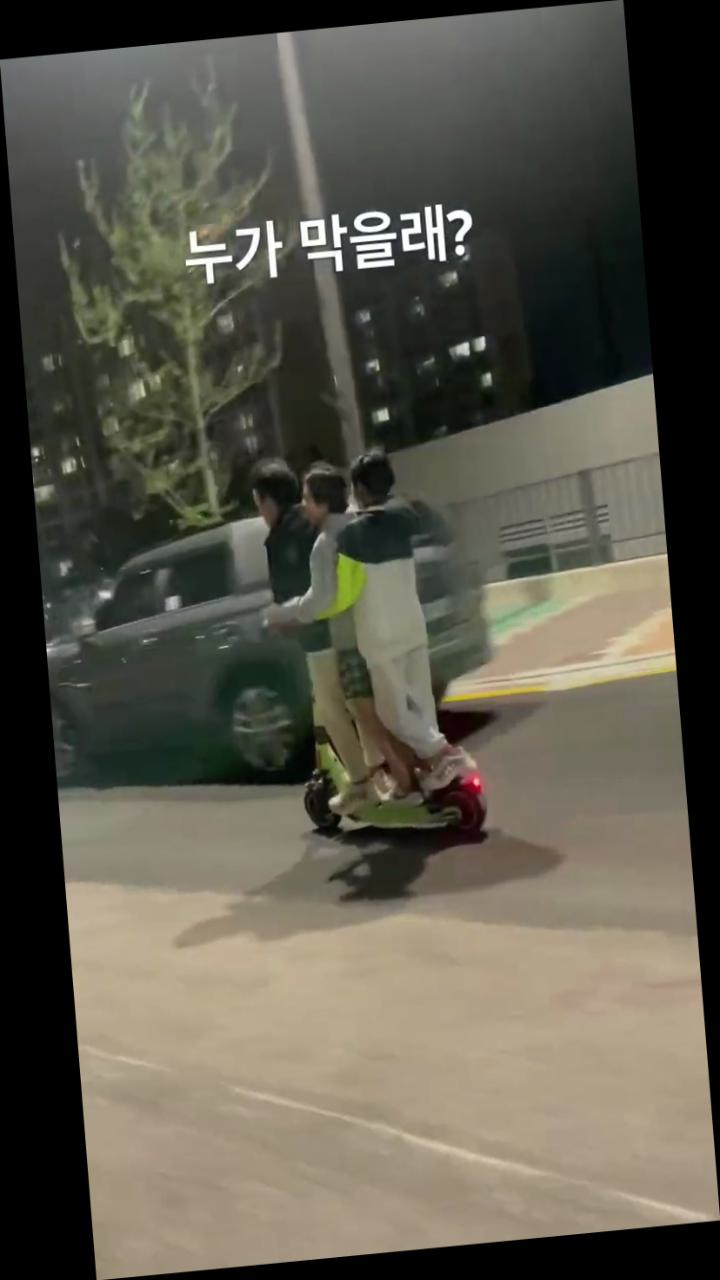multiple: (237, 433, 505, 863)
